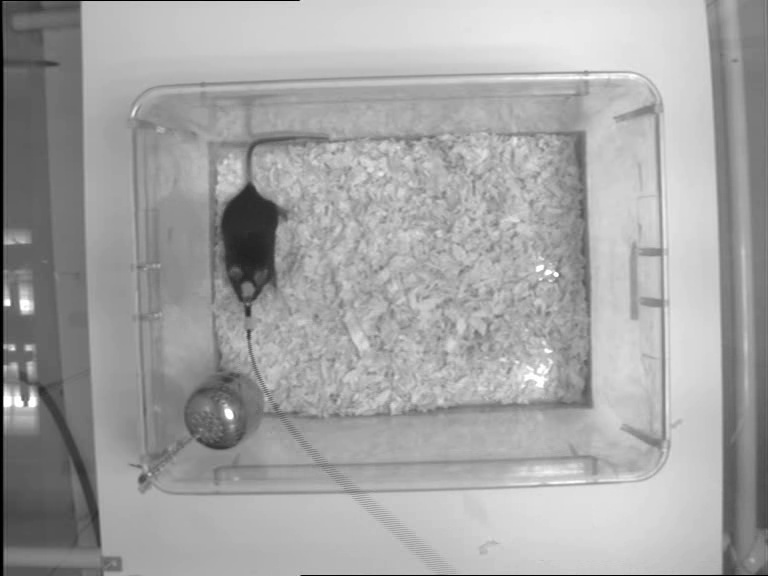mice: (214, 135, 329, 305)
